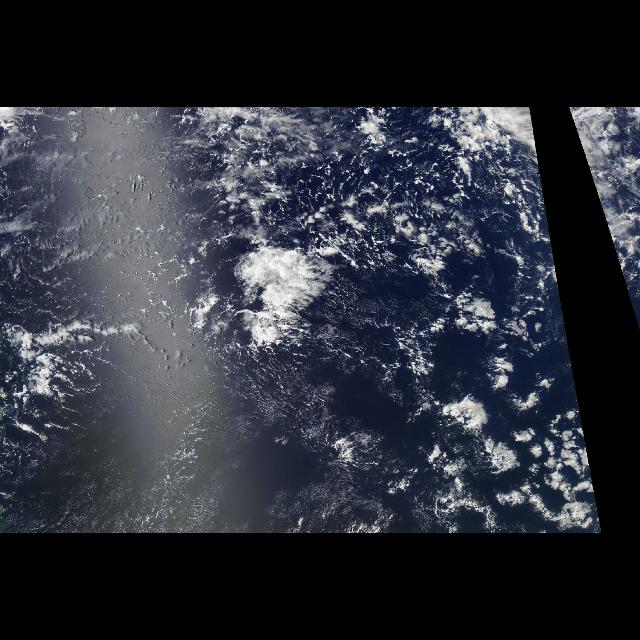Flower: (434, 355, 600, 529)
Gravel: (312, 132, 520, 284)
Sugar: (8, 363, 342, 532)
